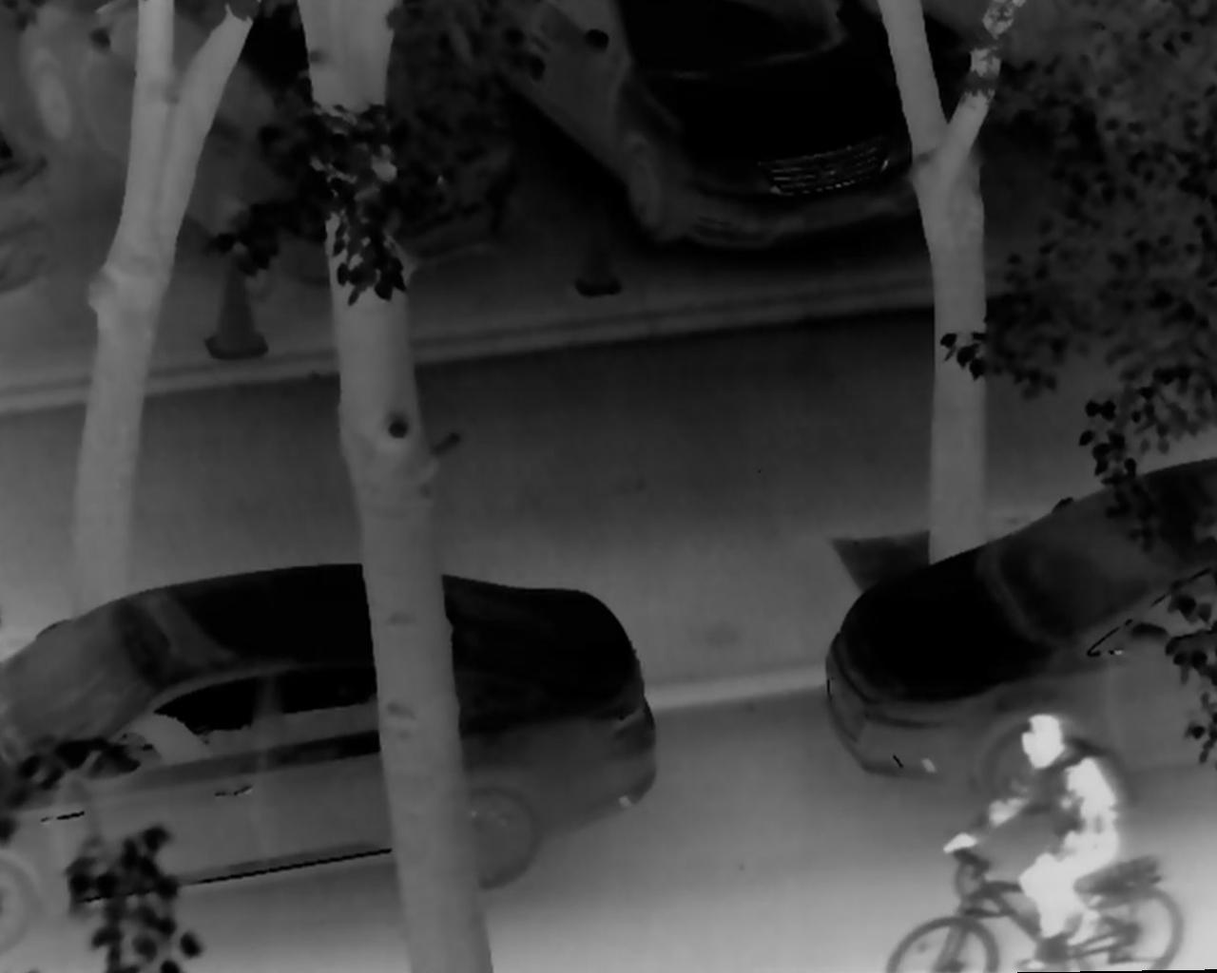person: (942, 710, 1120, 969)
